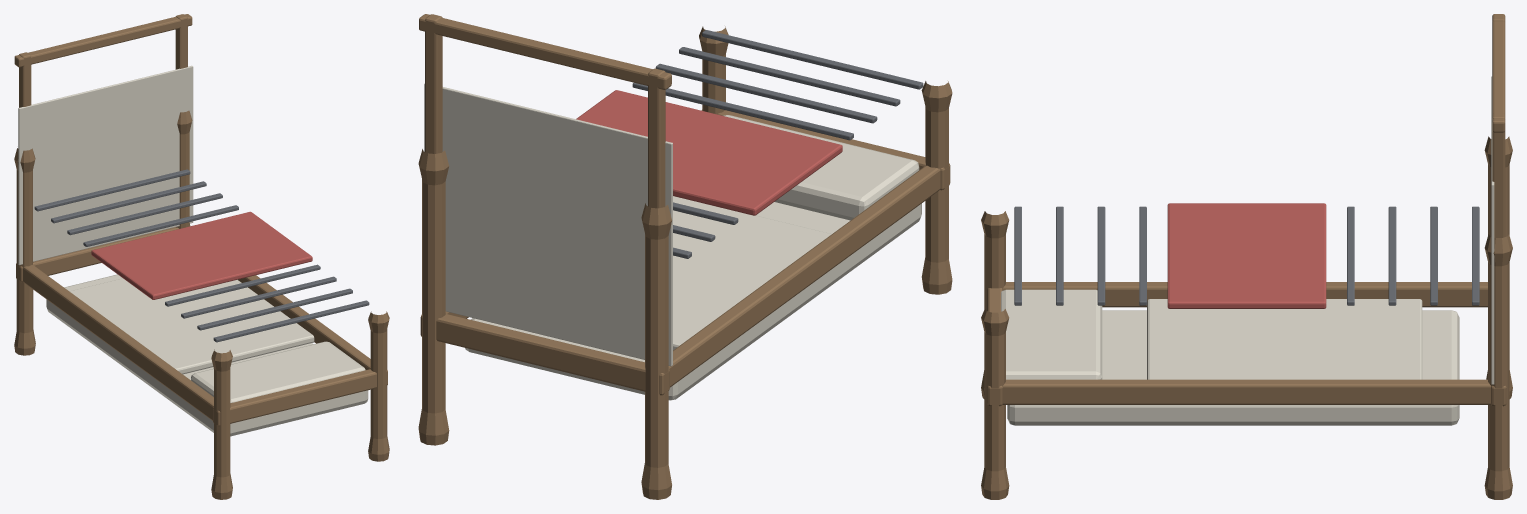
Rendered from monastery_infirmary_cot.glb.
The picture shows the model from 3 angles, left to right: view 1: azimuth 30°, elevation 25°; view 2: azimuth 150°, elevation 25°; view 3: azimuth 270°, elevation 25°; orthographic projection. The views are drawn at different scales.
Parts seen in each view (by area): view 1: world; view 2: world; view 3: world.
Part boxes in pixels (x1=…): world: x1=14, y1=14, x2=389, y2=499; world: x1=418, y1=14, x2=952, y2=499; world: x1=981, y1=14, x2=1512, y2=499.
Size of the model in its own units: 0.9705 by 1.57 by 2.
